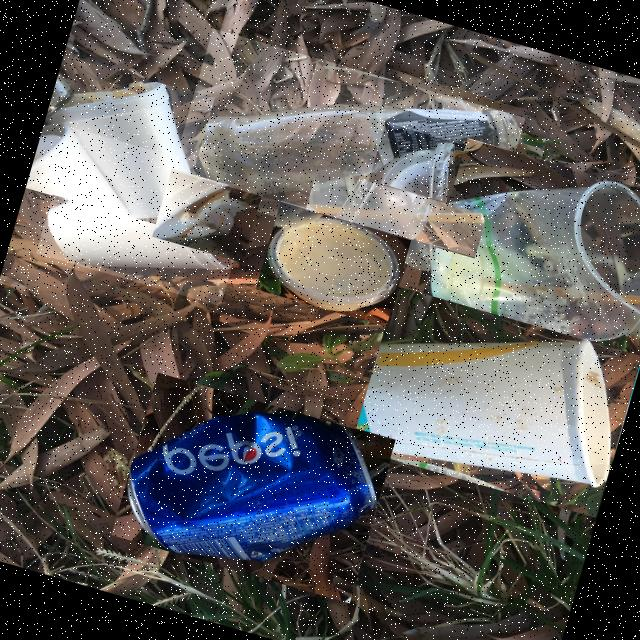Disposable food container: (267, 217, 400, 311)
Disposable plastic cup: (430, 181, 640, 341)
Drink can: (128, 412, 378, 561)
Foam cup: (47, 158, 231, 271), (44, 83, 191, 220)
Glass bottle: (184, 105, 518, 201)
Paper cup: (351, 340, 611, 489)
Paper straw: (307, 204, 484, 224)
Plastic lid: (365, 142, 455, 284), (268, 216, 399, 309)
Unlabeled litter: (152, 187, 258, 241)
